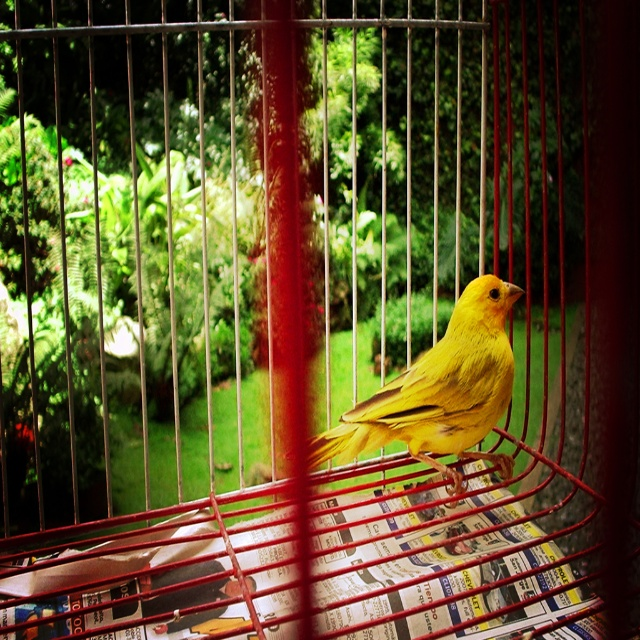Canary: (278, 272, 527, 504)
